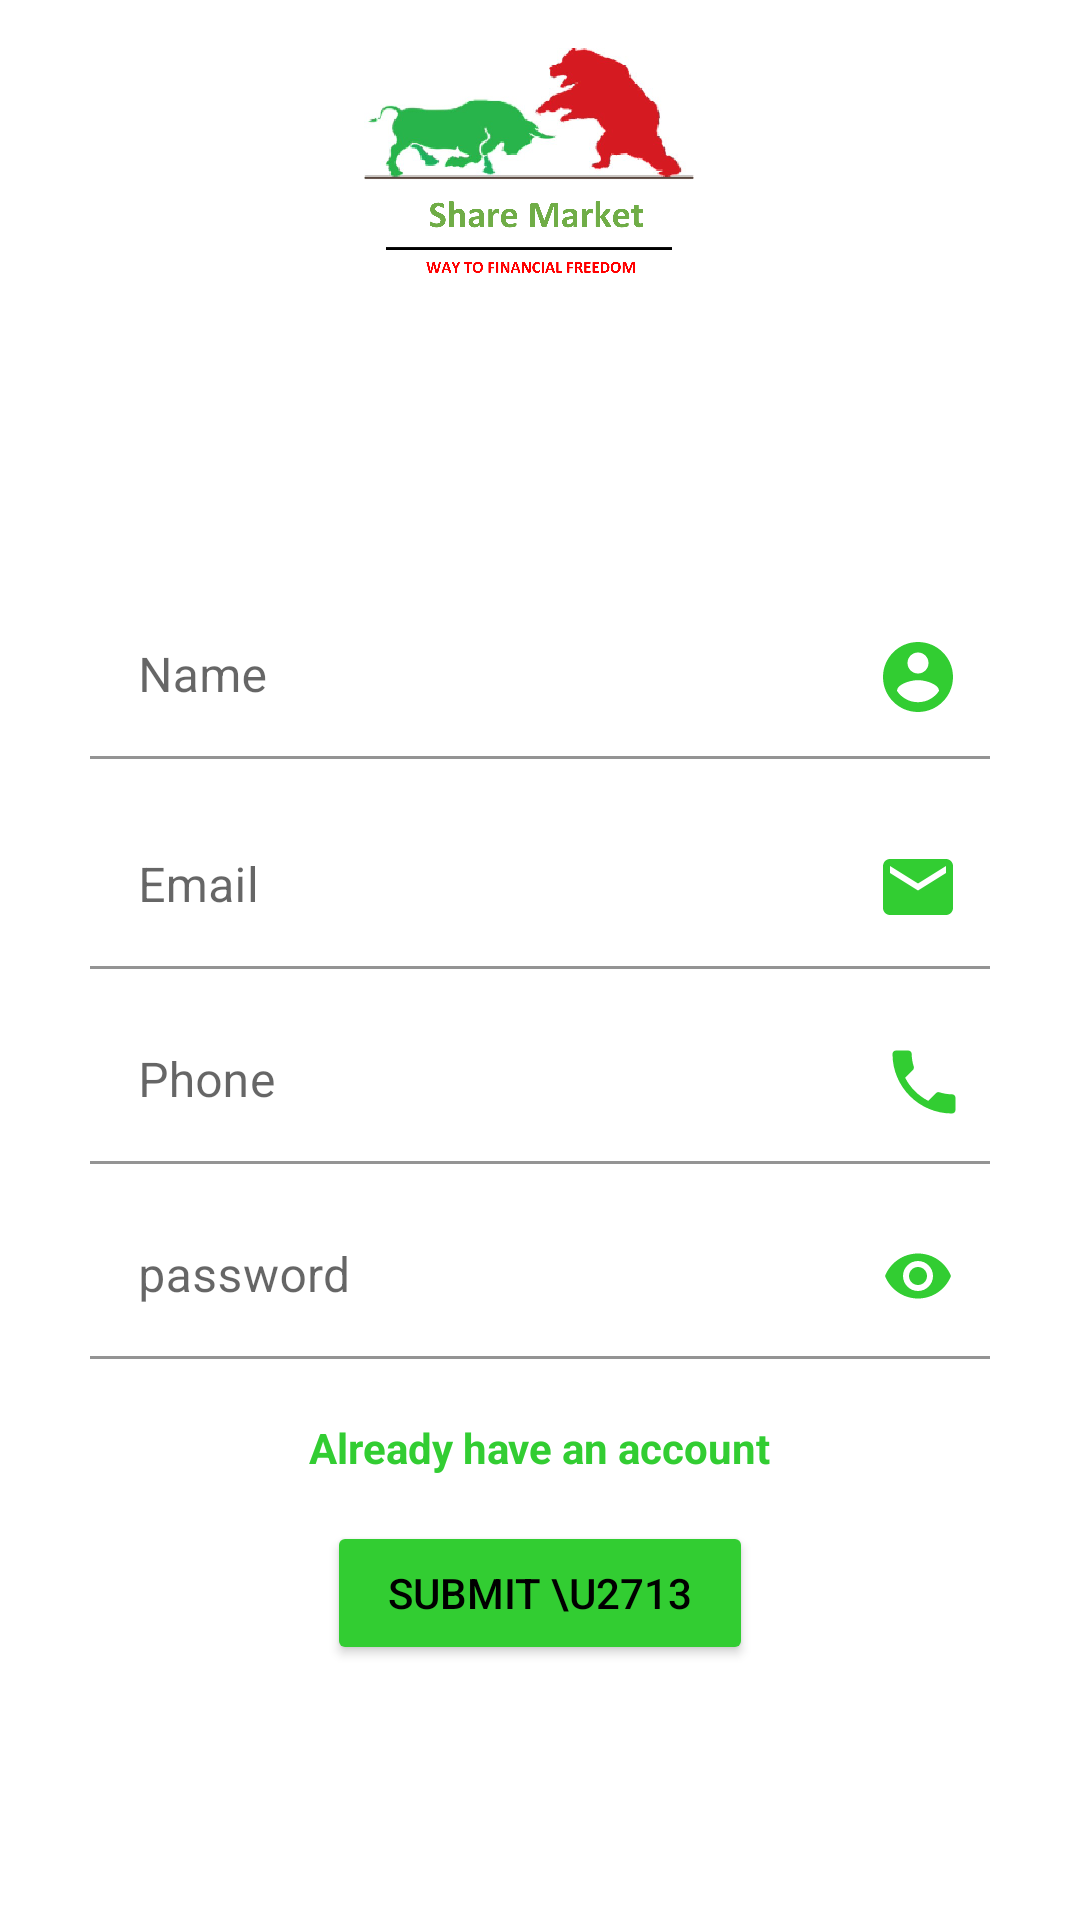

Locate icon controls on the screen. Image size 1080px×1920px, boxes as (x1, y1, x2, y2).
account circle: (883, 642, 953, 712)
